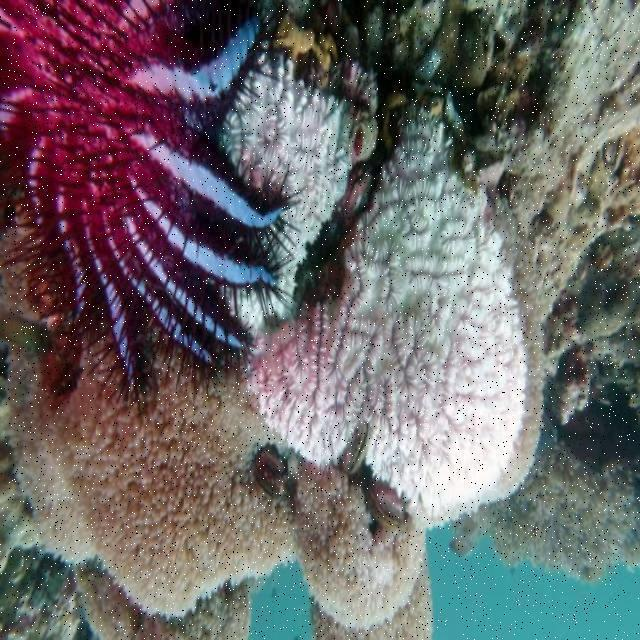Bleached: (228, 69, 528, 521)
